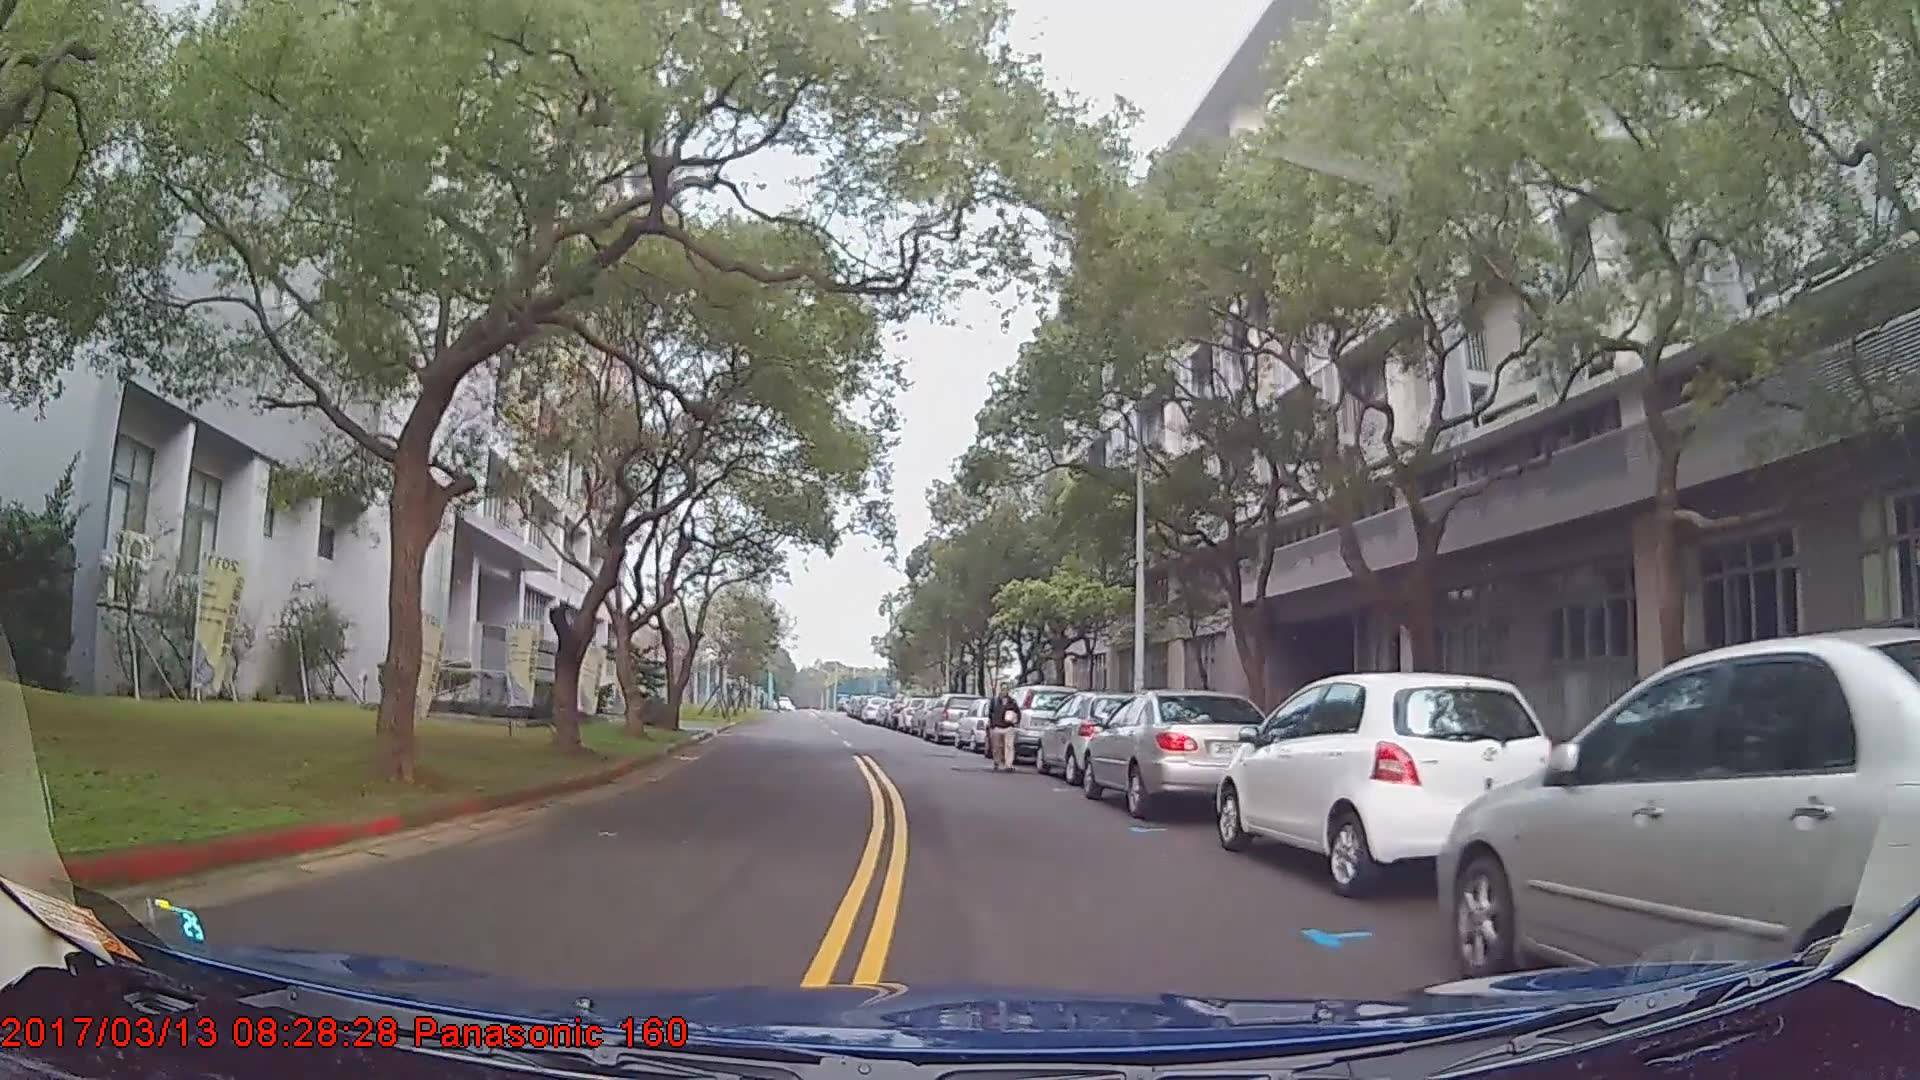pedestrian: (988, 676, 1023, 770)
vehicle: (1435, 624, 1920, 1009), (1215, 669, 1559, 896), (1079, 686, 1276, 816), (1034, 686, 1158, 782), (989, 682, 1080, 761), (952, 693, 1018, 752), (922, 691, 982, 743)
